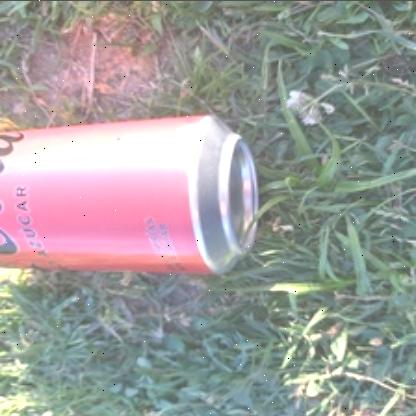Can: (0, 114, 258, 274)
